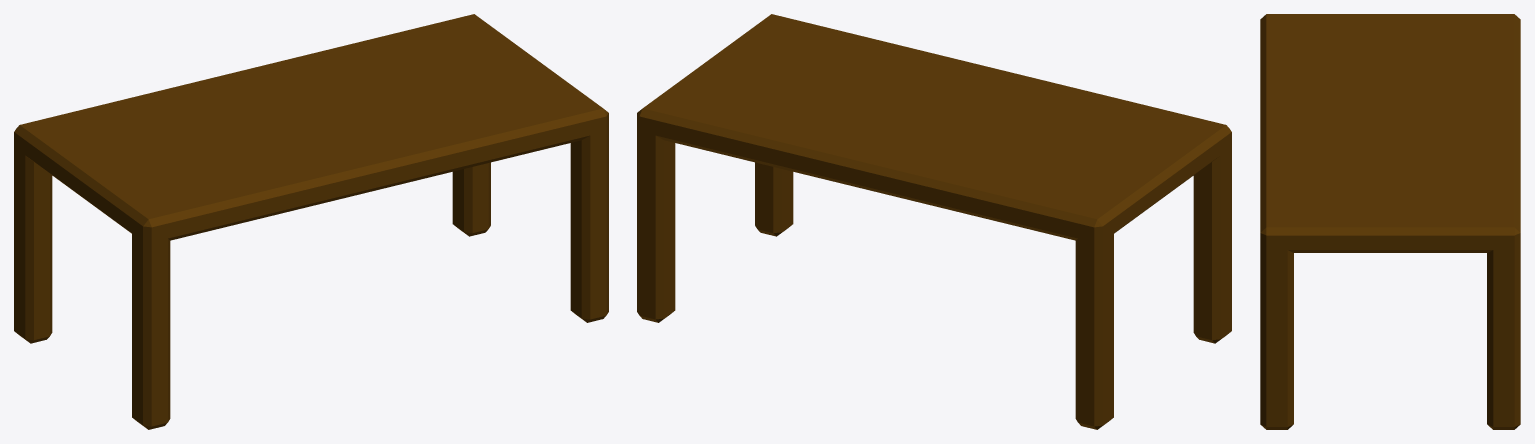
The model's file is Table.fbx.
3 views of the same model, side by side, from view 1: azimuth 30°, elevation 25°; view 2: azimuth 150°, elevation 25°; view 3: azimuth 270°, elevation 25° (orthographic). The views are drawn at different scales.
Parts seen in each view (by area): view 1: pCube10; view 2: pCube10; view 3: pCube10.
Part boxes in pixels (bbox=[...]): pCube10: bbox=[14, 14, 608, 429]; pCube10: bbox=[637, 14, 1231, 429]; pCube10: bbox=[1260, 14, 1520, 429].
Size of the model in its own units: 12.18 by 5.27 by 6.13.
